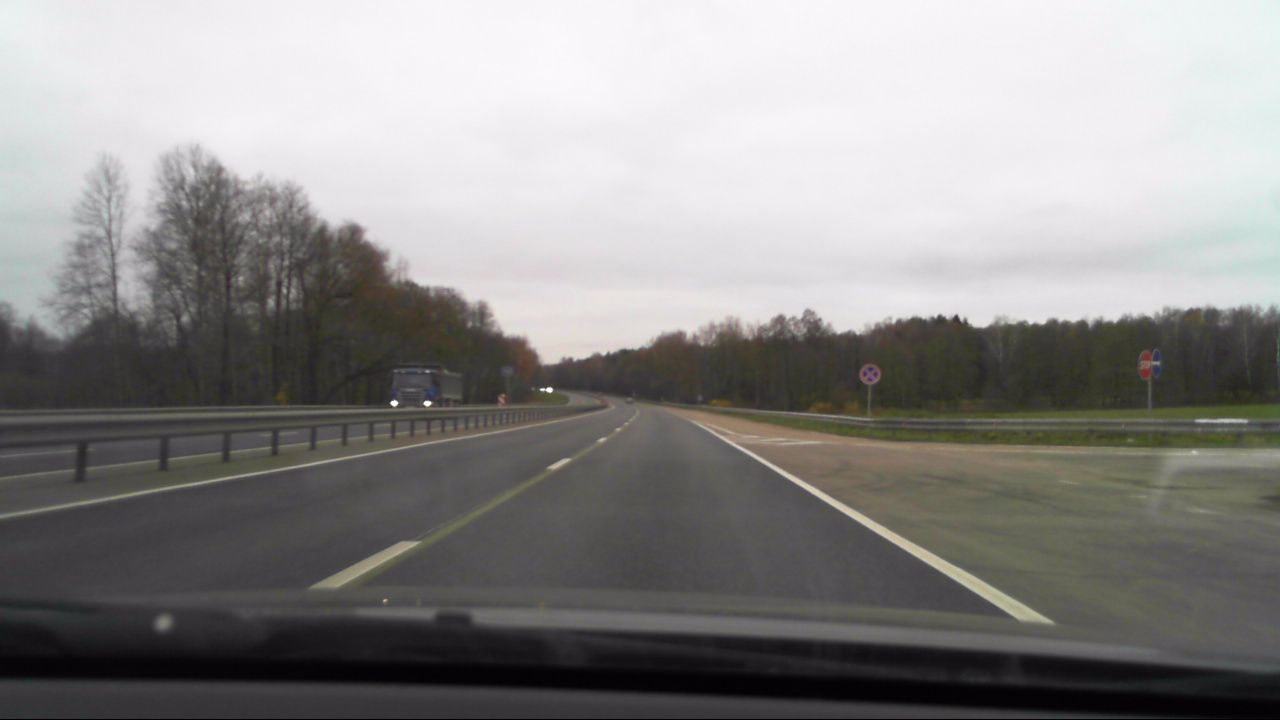No Parking: (861, 364, 882, 385)
